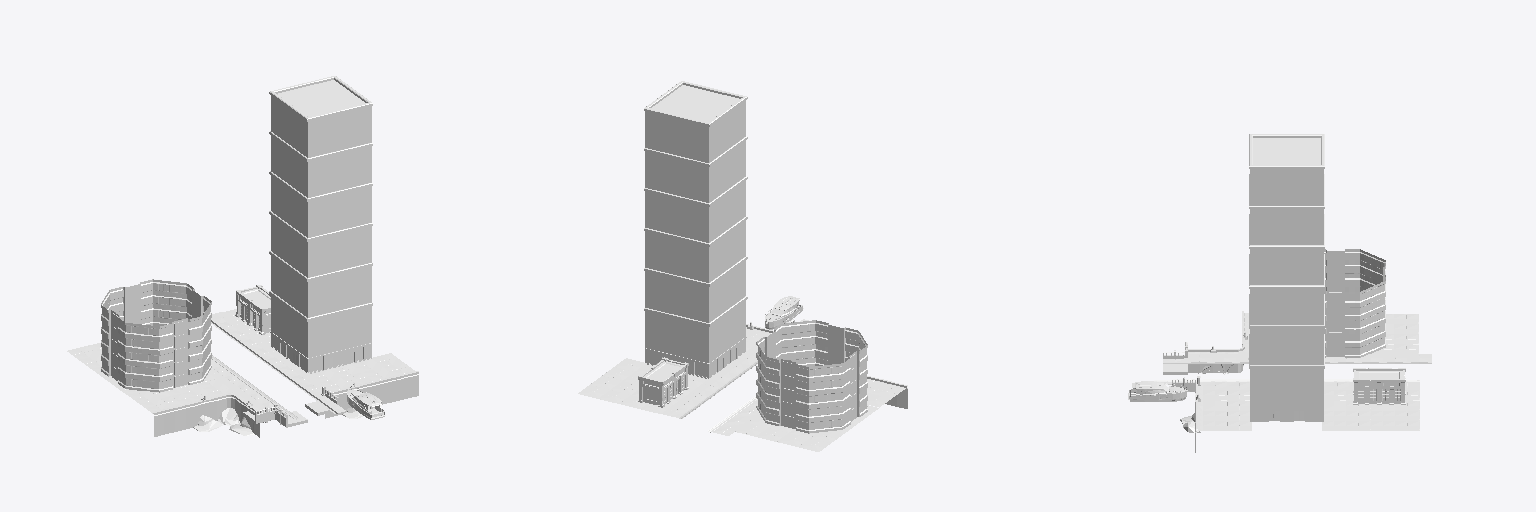
The model's file is city_to_bridge.obj.
3 renders of one model, left to right at view 1: azimuth 30°, elevation 25°; view 2: azimuth 150°, elevation 25°; view 3: azimuth 270°, elevation 25°, orthographic.
Parts seen in each view (by area): view 1: SM_Bld_OfficeOctagon_01_Scene.136, SM_Bld_OfficeSquare_02_Scene.125, SM_Bld_OfficeSquare_05_Scene.125, SM_Bld_OfficeSquare_03_Scene.125, SM_Bld_OfficeSquare_06_Scene.125, SM_Bld_OfficeSquare_07_Scene.125, SM_Bld_OfficeSquare_04_Scene.125, SM_Bld_OfficeSquare_Roof_09_Scene.124, SM_Bld_Station_03_Scene.135, SM_Bld_OfficeSquare_Base_01_Glass_Scene.123, default_4_Scene.134, SM_Env_WaterEdge_Corner_17_Scene.130 (+4 smaller); view 2: SM_Bld_OfficeOctagon_01_Scene.136, SM_Bld_OfficeSquare_02_Scene.125, SM_Bld_OfficeSquare_03_Scene.125, SM_Bld_OfficeSquare_04_Scene.125, SM_Bld_OfficeSquare_07_Scene.125, SM_Bld_OfficeSquare_05_Scene.125, SM_Bld_OfficeSquare_06_Scene.125, SM_Bld_OfficeSquare_Roof_09_Scene.124, SM_Bld_Station_03_Scene.135, default_4_Scene.134, SM_Bld_OfficeSquare_Base_01_Glass_Scene.123, SM_Bld_OfficeSquare_Base_09_Scene.122; view 3: SM_Bld_OfficeOctagon_01_Scene.136, SM_Bld_OfficeSquare_02_Scene.125, SM_Bld_OfficeSquare_07_Scene.125, SM_Bld_OfficeSquare_03_Scene.125, SM_Bld_OfficeSquare_04_Scene.125, SM_Bld_OfficeSquare_05_Scene.125, SM_Bld_OfficeSquare_06_Scene.125, SM_Bld_OfficeSquare_Roof_09_Scene.124, SM_Bld_Station_03_Scene.135, default_4_Scene.134, SM_Bld_OfficeSquare_Base_01_Glass_Scene.123.
Part boxes in pixels (bbox=[...]): SM_Bld_OfficeOctagon_01_Scene.136: bbox=[101, 279, 211, 392]; SM_Bld_OfficeSquare_02_Scene.125: bbox=[271, 295, 371, 357]; SM_Bld_OfficeSquare_05_Scene.125: bbox=[271, 175, 371, 237]; SM_Bld_OfficeSquare_03_Scene.125: bbox=[271, 255, 371, 317]; SM_Bld_OfficeSquare_06_Scene.125: bbox=[271, 136, 371, 197]; SM_Bld_OfficeSquare_07_Scene.125: bbox=[271, 96, 371, 157]; SM_Bld_OfficeSquare_04_Scene.125: bbox=[271, 215, 371, 277]; SM_Bld_OfficeSquare_Roof_09_Scene.124: bbox=[269, 76, 372, 121]; SM_Bld_Station_03_Scene.135: bbox=[235, 285, 270, 334]; SM_Bld_OfficeSquare_Base_01_Glass_Scene.123: bbox=[272, 334, 370, 371]; default_4_Scene.134: bbox=[347, 387, 385, 419]; SM_Env_WaterEdge_Corner_17_Scene.130: bbox=[215, 392, 246, 425]; SM_Bld_OfficeOctagon_01_Scene.136: bbox=[756, 320, 867, 433]; SM_Bld_OfficeSquare_02_Scene.125: bbox=[645, 300, 745, 362]; SM_Bld_OfficeSquare_03_Scene.125: bbox=[645, 261, 745, 322]; SM_Bld_OfficeSquare_04_Scene.125: bbox=[645, 221, 745, 282]; SM_Bld_OfficeSquare_07_Scene.125: bbox=[645, 101, 745, 162]; SM_Bld_OfficeSquare_05_Scene.125: bbox=[645, 181, 745, 242]; SM_Bld_OfficeSquare_06_Scene.125: bbox=[645, 141, 745, 202]; SM_Bld_OfficeSquare_Roof_09_Scene.124: bbox=[644, 81, 747, 126]; SM_Bld_Station_03_Scene.135: bbox=[638, 357, 688, 407]; default_4_Scene.134: bbox=[765, 296, 803, 329]; SM_Bld_OfficeSquare_Base_01_Glass_Scene.123: bbox=[646, 339, 744, 377]; SM_Bld_OfficeSquare_Base_09_Scene.122: bbox=[645, 337, 746, 378]; SM_Bld_OfficeOctagon_01_Scene.136: bbox=[1324, 249, 1385, 357]; SM_Bld_OfficeSquare_02_Scene.125: bbox=[1250, 369, 1323, 405]; SM_Bld_OfficeSquare_07_Scene.125: bbox=[1250, 169, 1323, 205]; SM_Bld_OfficeSquare_03_Scene.125: bbox=[1250, 329, 1323, 364]; SM_Bld_OfficeSquare_04_Scene.125: bbox=[1250, 289, 1323, 324]; SM_Bld_OfficeSquare_05_Scene.125: bbox=[1250, 249, 1323, 284]; SM_Bld_OfficeSquare_06_Scene.125: bbox=[1250, 209, 1323, 244]; SM_Bld_OfficeSquare_Roof_09_Scene.124: bbox=[1249, 134, 1324, 168]; SM_Bld_Station_03_Scene.135: bbox=[1353, 368, 1405, 404]; default_4_Scene.134: bbox=[1128, 381, 1189, 401]; SM_Bld_OfficeSquare_Base_01_Glass_Scene.123: bbox=[1251, 408, 1322, 420].
Bounding box in the file's own units: 57.02 × 62.88 × 62.03.